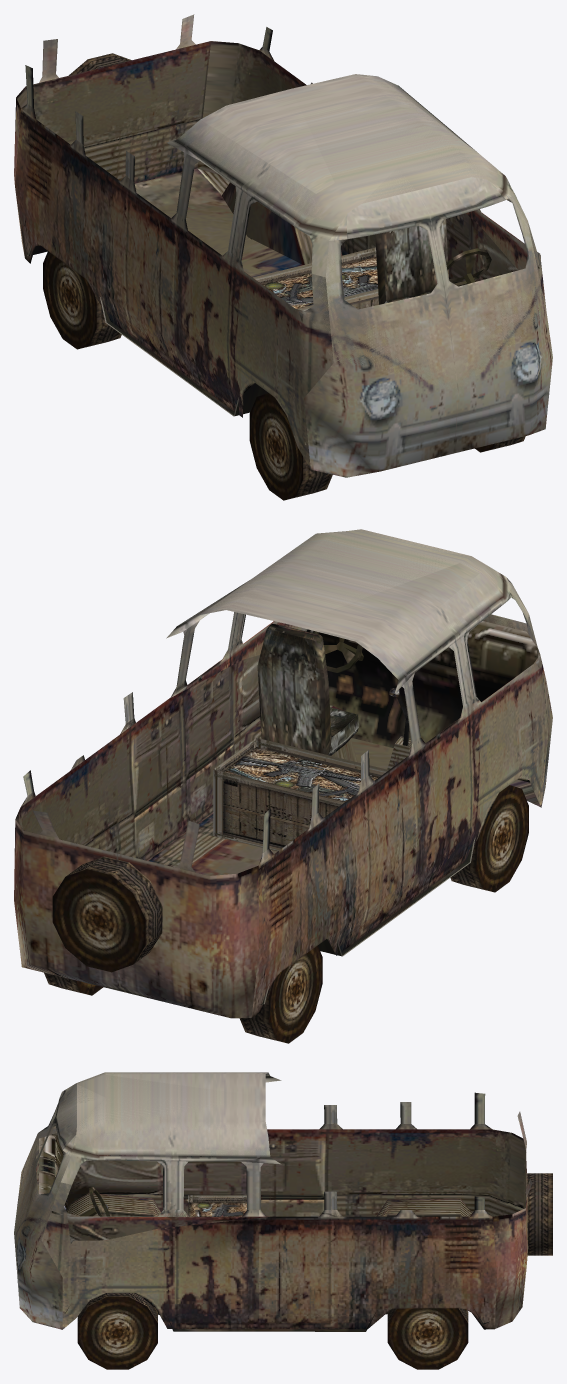
File: NBus2P.glb
3 views of the same model, one above another, from view 1: azimuth 30°, elevation 25°; view 2: azimuth 150°, elevation 25°; view 3: azimuth 270°, elevation 25° (orthographic). The views are drawn at different scales.
Parts seen in each view (by area): view 1: _NBus2P; view 2: _NBus2P; view 3: _NBus2P.
Part boxes in pixels (x1,y1,x2,y2): _NBus2P: (14,14,552,500); _NBus2P: (14,529,552,1043); _NBus2P: (14,1072,552,1369).
Size of the model in its own units: 1.95 by 2.34 by 4.97.
Materials: 3 (3 with a texture image).
